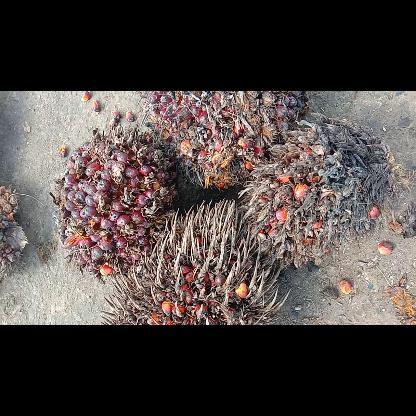TBS masak: (50, 124, 178, 282), (143, 90, 306, 188)
Terlalu masak: (237, 113, 409, 268), (100, 198, 290, 324)
